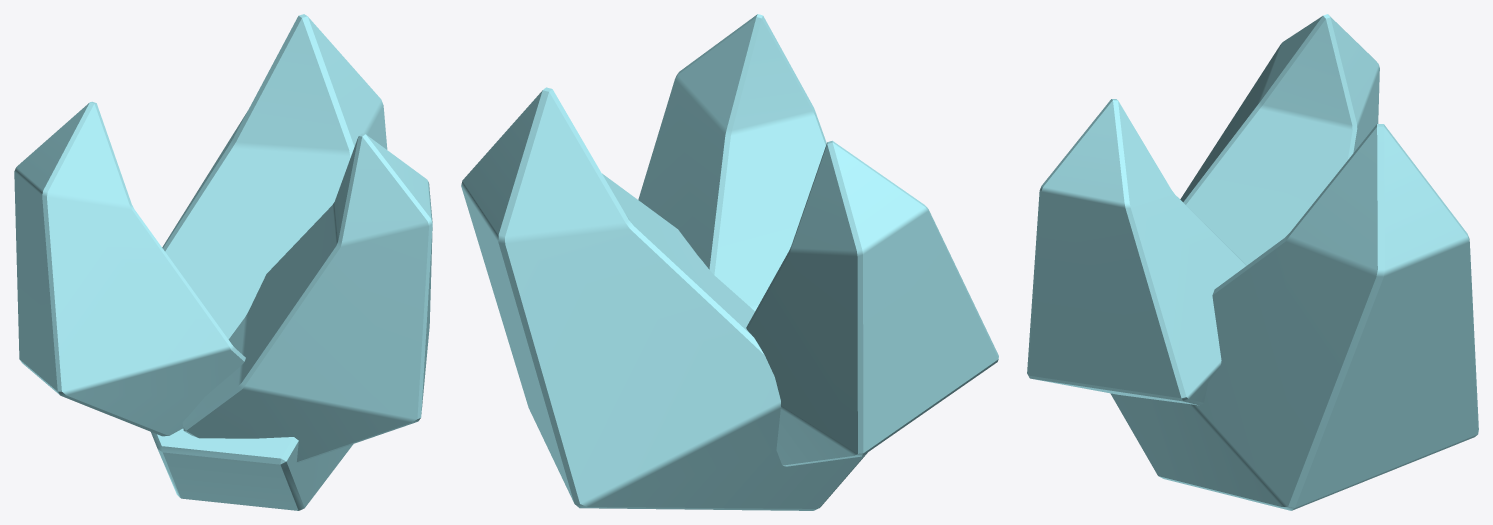
Rendered from Corruption Node medium.fbx.
3 renders of one model, left to right at view 1: azimuth 30°, elevation 25°; view 2: azimuth 150°, elevation 25°; view 3: azimuth 270°, elevation 25°, orthographic. The views are drawn at different scales.
Visible parts, largest first — view 1: orig; view 2: orig; view 3: orig.
Boxes of the visible parts, x1,y1,x2,y2 form: orig: (14, 14, 432, 510); orig: (461, 14, 998, 510); orig: (1027, 14, 1478, 510).
Size of the model in its own units: 4.58 by 4.19 by 4.2.
